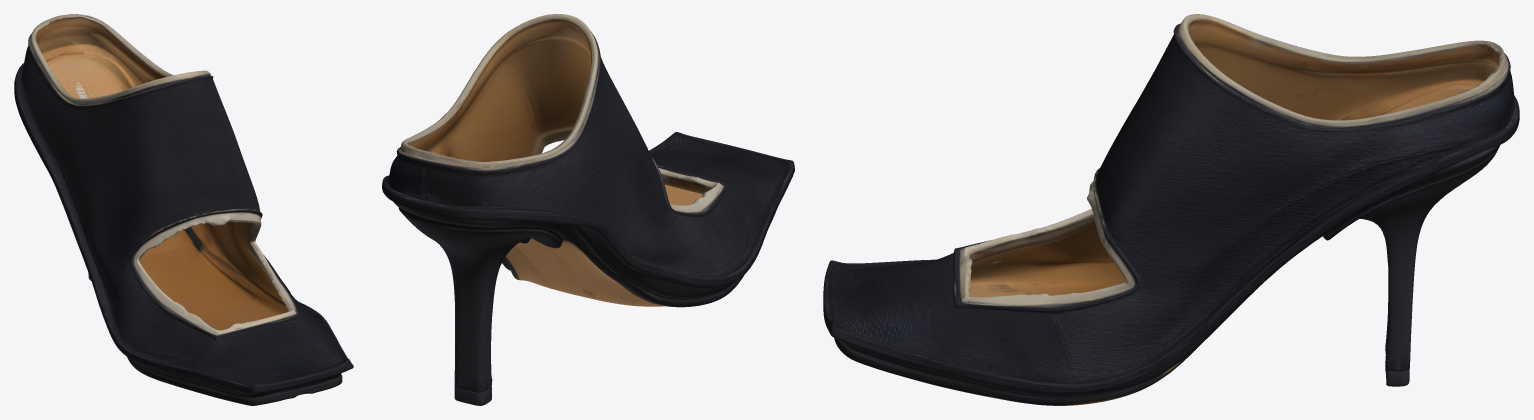
The model's file is open-mule-heels.glb.
3 renders of one model, left to right at view 1: azimuth 30°, elevation 25°; view 2: azimuth 150°, elevation 25°; view 3: azimuth 270°, elevation 25°, orthographic. The views are drawn at different scales.
Visible parts, largest first — view 1: node_0; view 2: node_0; view 3: node_0.
Boxes of the visible parts, <box> form: node_0: <box>14,14,353,405</box>; node_0: <box>382,14,794,405</box>; node_0: <box>823,14,1519,405</box>.
Bounding box in the file's own units: 0.476 × 0.6334 × 1.13.
1 material, 1 textured.
